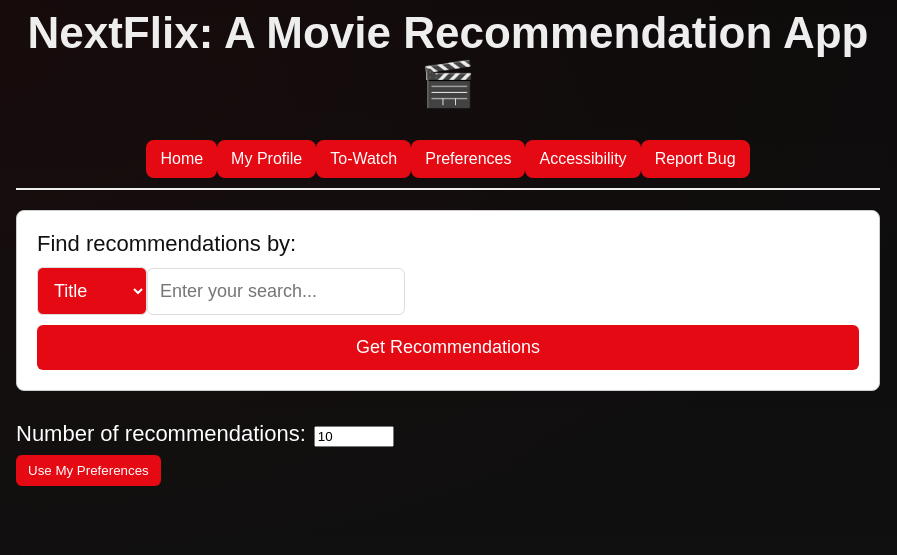
Test: App (frontend) › navigates to Profile and shows no-profile message when no user
Step 1. Click the button "My Profile" → (267, 159), box [217,140,316,178]
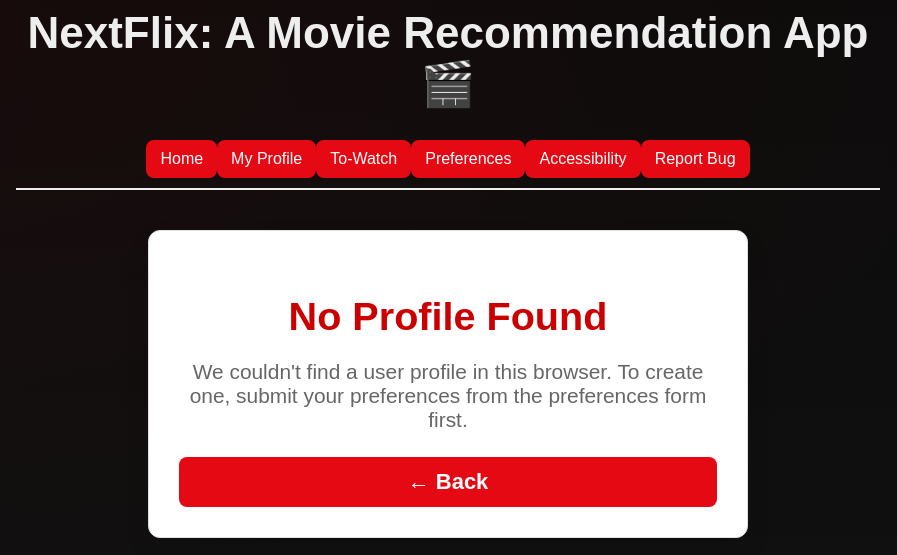
Result: the heading "No Profile Found" is shown at [289,294,607,338]
Result: the button "← Back" is shown at [179,457,717,507]
